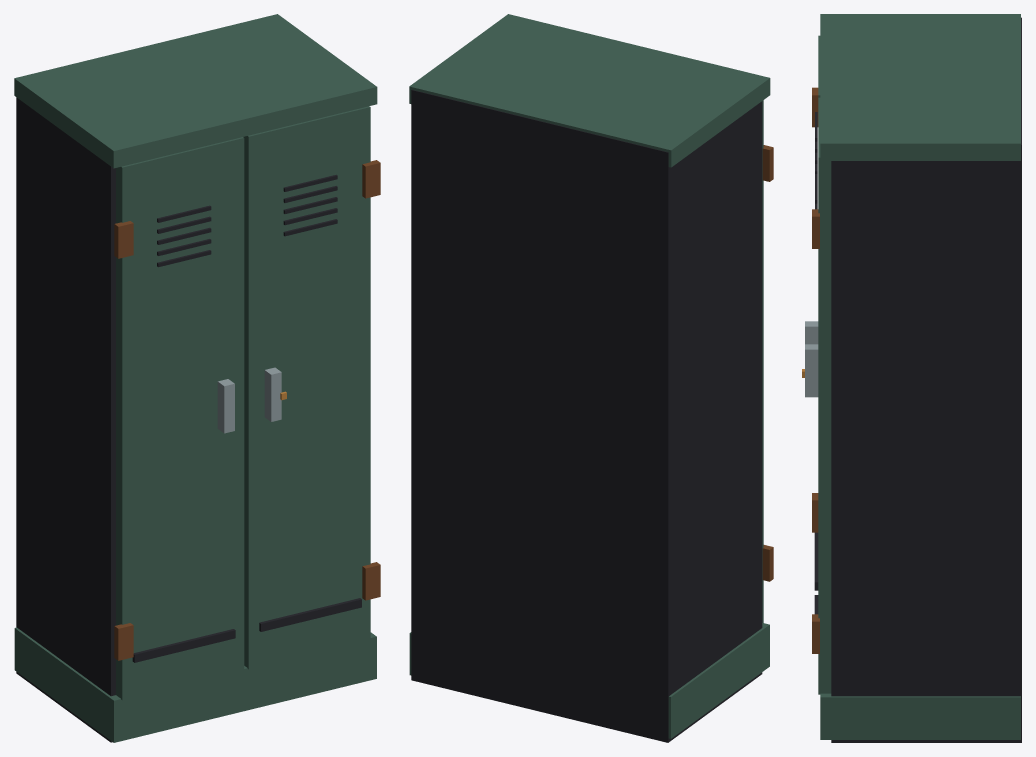
Rendered from mia-closet.glb.
3 views of the same model, side by side, from view 1: azimuth 30°, elevation 25°; view 2: azimuth 150°, elevation 25°; view 3: azimuth 270°, elevation 25° (orthographic).
Parts seen in each view (by area): view 1: Body_sage, Body_iron, Body_rust, Body_steel; view 2: Body_iron, Body_sage, Body_rust; view 3: Body_iron, Body_sage, Body_rust, Body_steel.
Part boxes in pixels (left/top/right/bottom): Body_sage: left=14, top=14, right=377, bottom=742; Body_iron: left=16, top=97, right=361, bottom=742; Body_rust: left=114, top=160, right=380, bottom=660; Body_steel: left=217, top=367, right=281, bottom=433; Body_iron: left=411, top=89, right=762, bottom=742; Body_sage: left=409, top=14, right=770, bottom=738; Body_rust: left=762, top=145, right=773, bottom=581; Body_iron: left=814, top=17, right=1021, bottom=742; Body_sage: left=818, top=14, right=1020, bottom=739; Body_rust: left=812, top=87, right=819, bottom=653; Body_steel: left=805, top=321, right=818, bottom=397.
Bounding box in the file's own units: 0.921 × 1.99 × 0.661.
